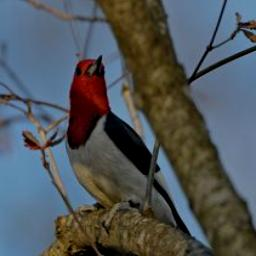Woodpecker: (58, 44, 200, 256)
